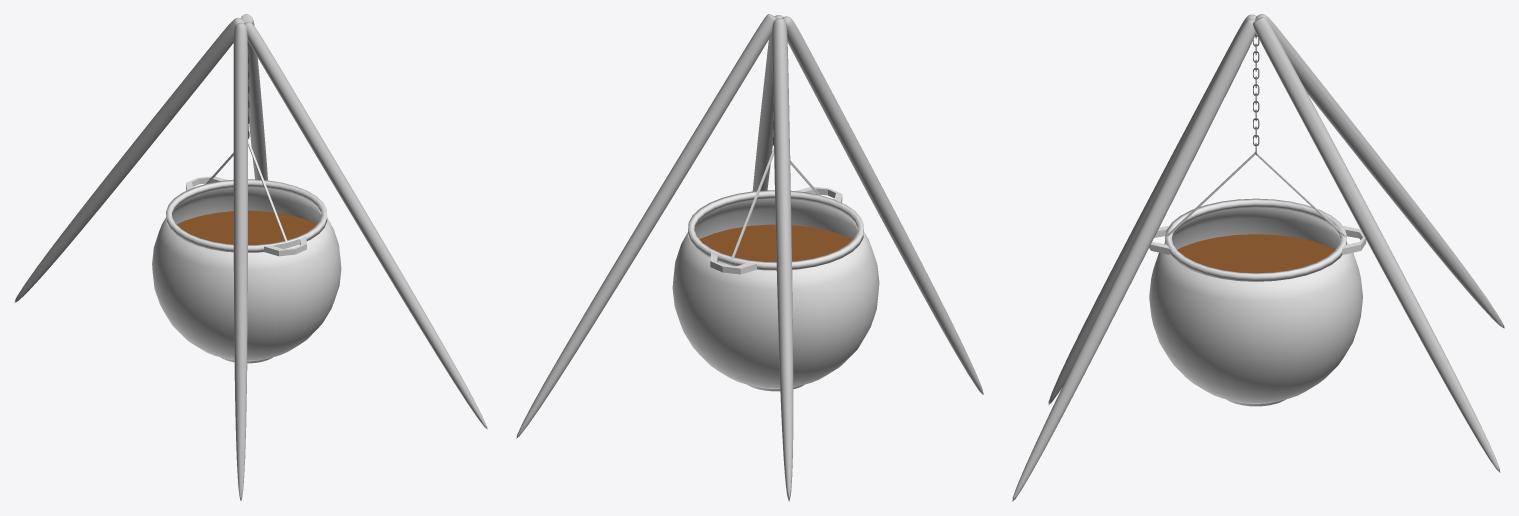
The model's file is bogracs.fbx.
The picture shows the model from 3 angles, left to right: view 1: azimuth 30°, elevation 25°; view 2: azimuth 150°, elevation 25°; view 3: azimuth 270°, elevation 25°; orthographic projection. The views are drawn at different scales.
Parts seen in each view (by area): view 1: bogracs, Cube; view 2: bogracs, Cube; view 3: bogracs, Cube.
Part boxes in pixels (x1,y1,x2,y2): bogracs: (152, 138, 341, 363); Cube: (14, 14, 487, 500); bogracs: (672, 148, 879, 391); Cube: (516, 14, 983, 501); bogracs: (1149, 152, 1366, 406); Cube: (1012, 14, 1504, 501).
Size of the model in its own units: 311 by 458 by 460.
